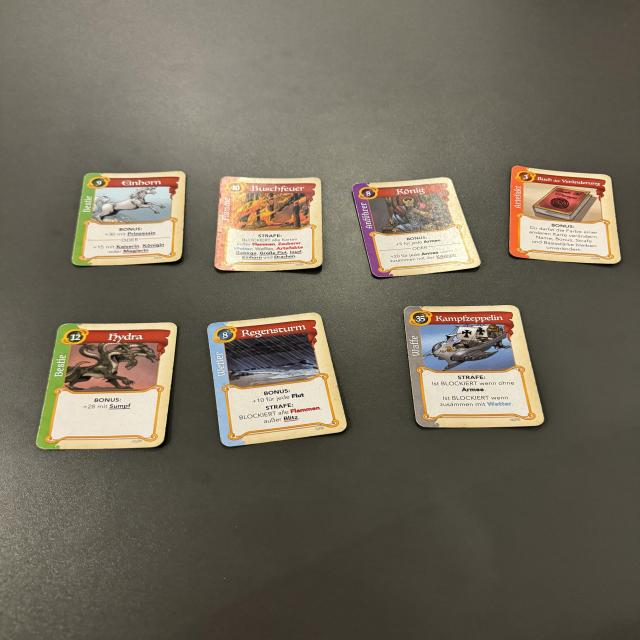Book Of Changes: (508, 165, 622, 264)
Hydra: (34, 321, 181, 451)
King: (351, 174, 485, 278)
Rainstorm: (205, 311, 355, 451)
Unicorn: (69, 169, 185, 265)
War Dirigable: (403, 303, 547, 429)
Wildfire: (212, 175, 326, 272)
